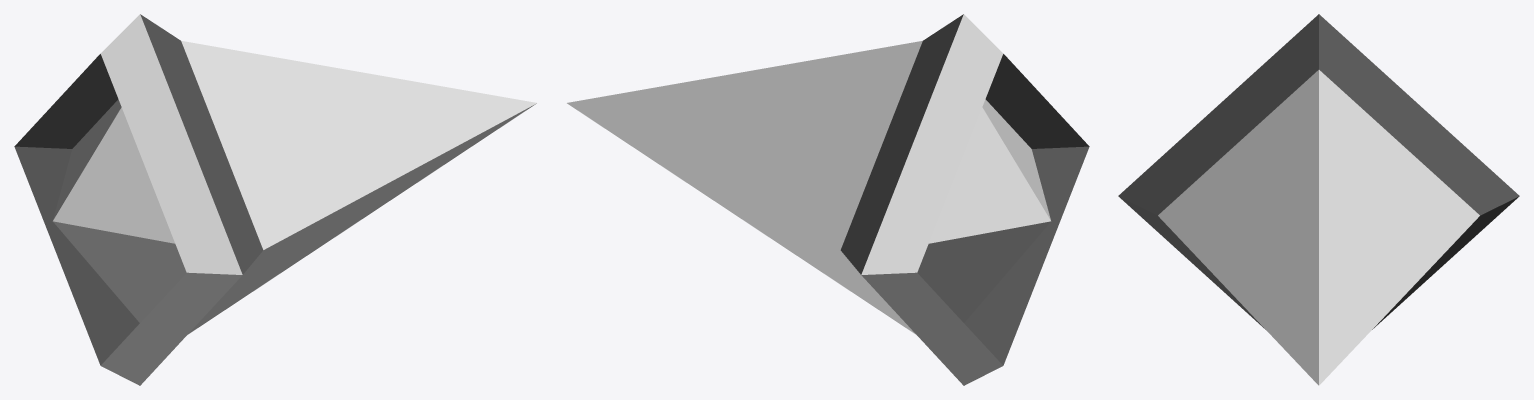
Rendered from Prism.glb.
The picture shows the model from 3 angles, left to right: view 1: azimuth 30°, elevation 25°; view 2: azimuth 150°, elevation 25°; view 3: azimuth 270°, elevation 25°; orthographic projection. The views are drawn at different scales.
Parts seen in each view (by area): view 1: Prism_col; view 2: Prism_col; view 3: Prism_col.
Boxes of the visible parts, x1=… form: Prism_col: x1=14, y1=14, x2=536, y2=385; Prism_col: x1=567, y1=14, x2=1089, y2=385; Prism_col: x1=1118, y1=14, x2=1519, y2=385.
Size of the model in its own units: 1.7 by 1.25 by 1.25.
1 material, 1 textured.
